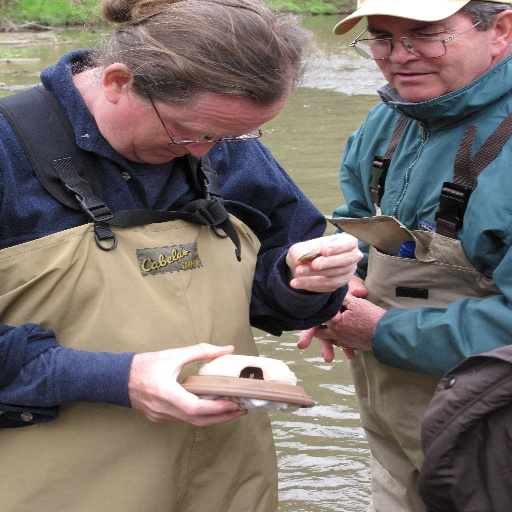hand: (100, 346, 308, 423), (295, 274, 369, 364), (281, 231, 364, 294), (321, 294, 389, 352)
